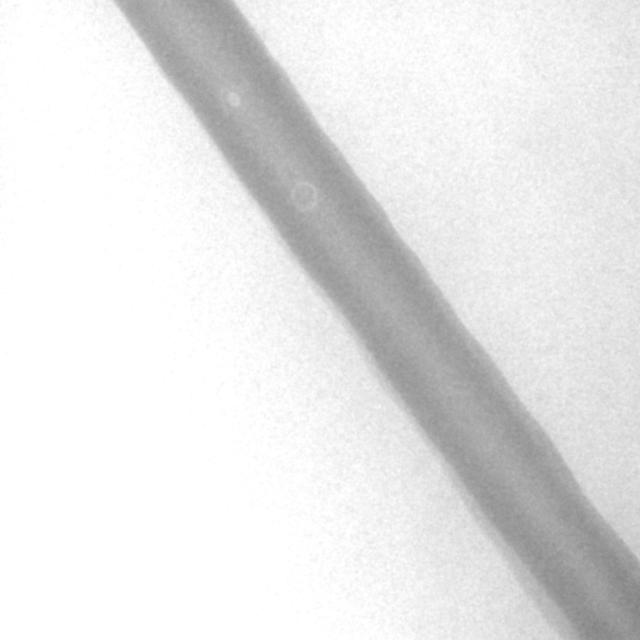hollow bead: (288, 178, 318, 215)
